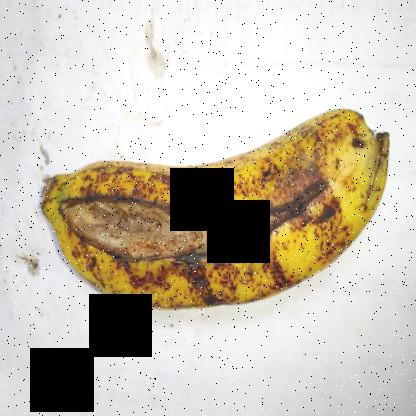rotten: (47, 139, 345, 328)
